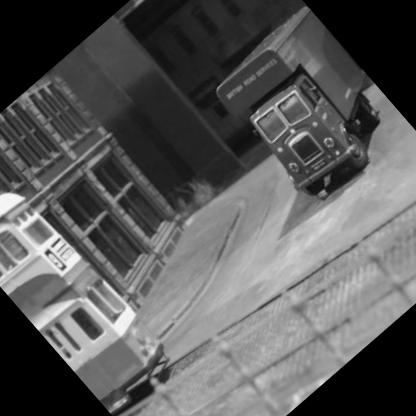truck: (183, 1, 415, 226)
